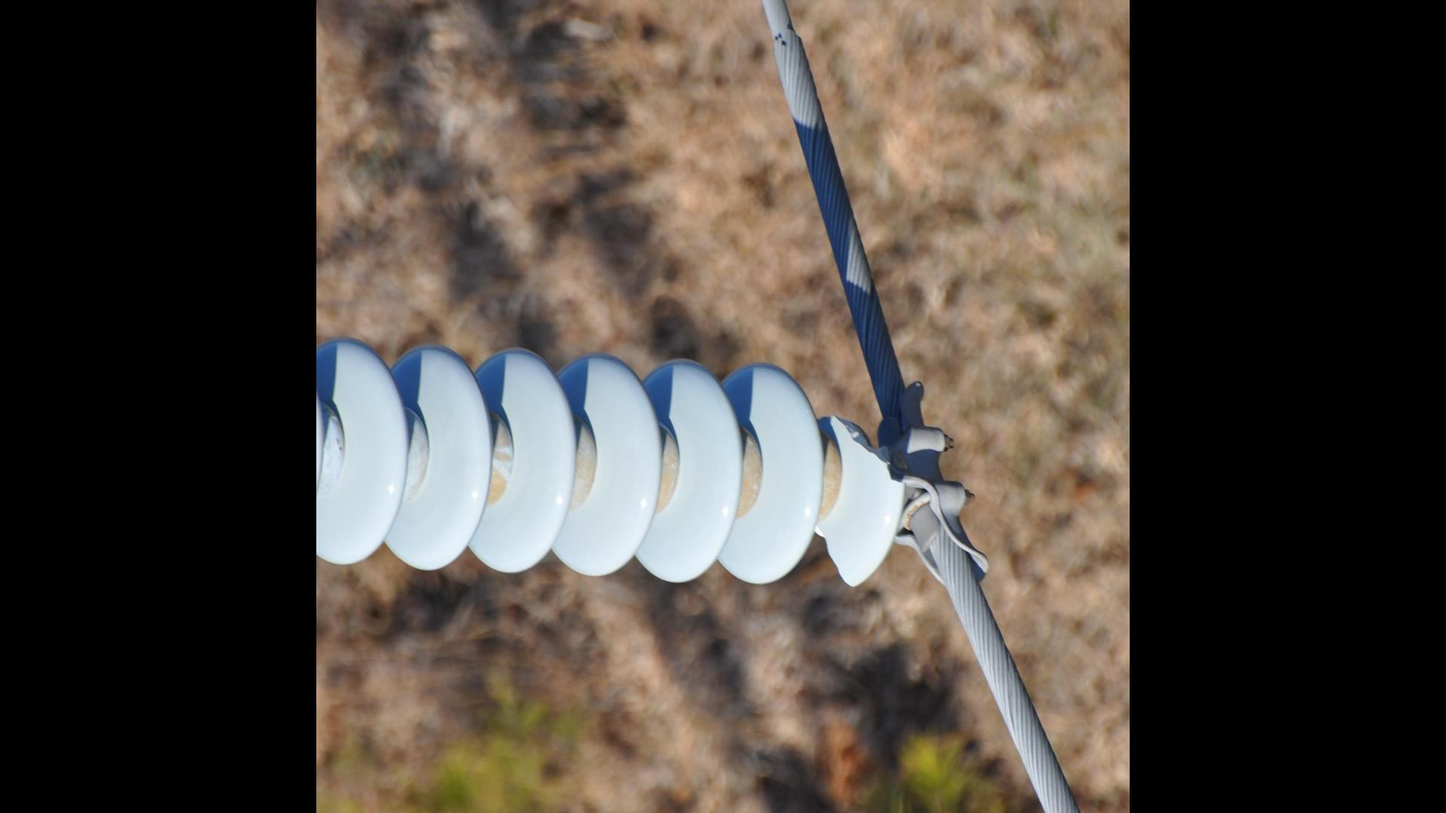insulator: (320, 337, 913, 598)
insulator_breakage: (811, 409, 910, 592)
